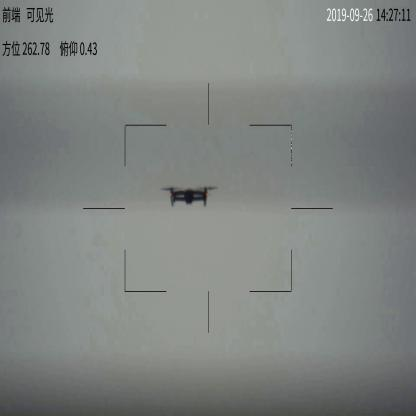uav: (160, 185, 219, 206)
